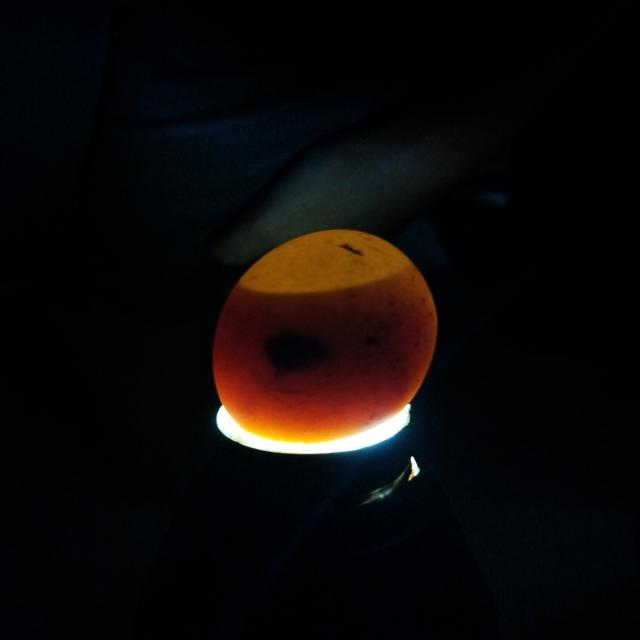Area Infectada: (263, 308, 417, 380)
